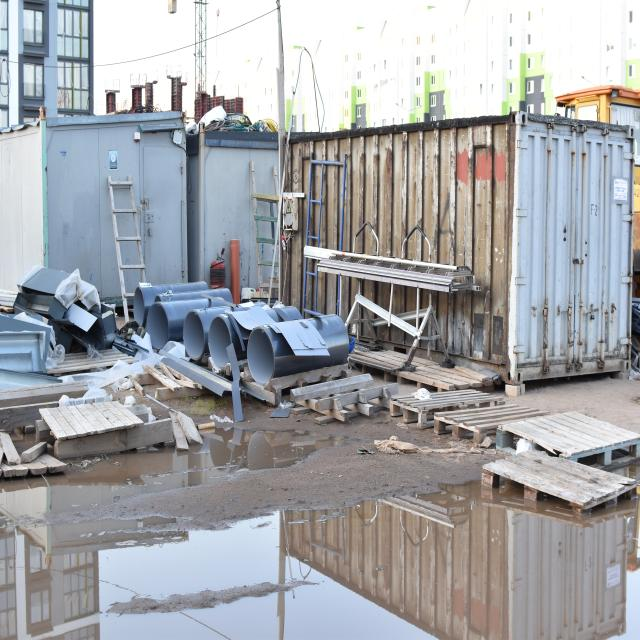entulho: (303, 244, 487, 372), (474, 445, 640, 519), (14, 254, 124, 360), (181, 300, 306, 382), (494, 406, 640, 474), (245, 310, 352, 390), (104, 172, 157, 326), (246, 150, 291, 314), (40, 402, 169, 457), (0, 302, 62, 398), (143, 292, 222, 348), (437, 400, 533, 443), (134, 356, 214, 404), (134, 282, 211, 330), (423, 362, 488, 392), (390, 390, 444, 425)
